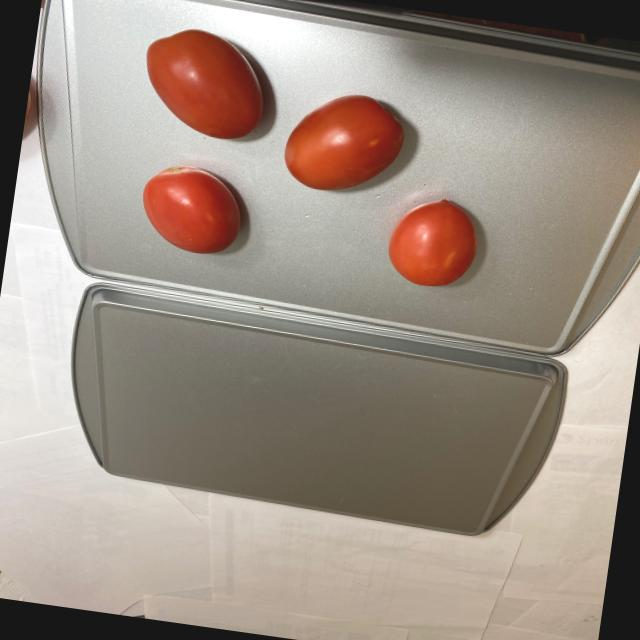tomato: (114, 22, 503, 295)
